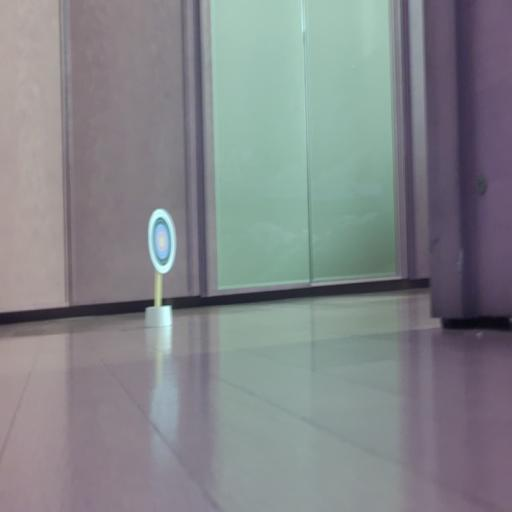target: (148, 208, 176, 274)
